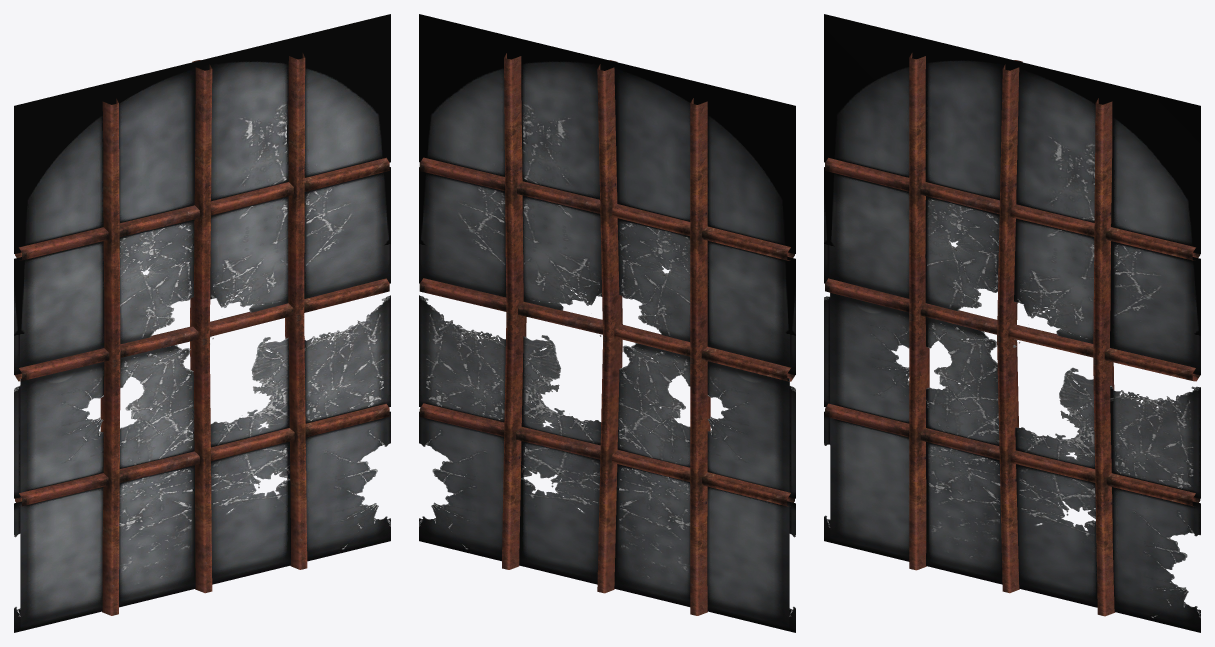
The model's file is mansionbase_large_window_breakable.dae.
3 views of the same model, side by side, from view 1: azimuth 30°, elevation 25°; view 2: azimuth 150°, elevation 25°; view 3: azimuth 330°, elevation 25° (orthographic).
Visible parts, largest first — view 1: window_breakable_glass, window_breakable_wood; view 2: window_breakable_glass, window_breakable_wood; view 3: window_breakable_glass, window_breakable_wood.
Boxes of the visible parts, x1,y1,x2,y2 form: window_breakable_glass: [14, 14, 390, 632]; window_breakable_wood: [15, 53, 389, 615]; window_breakable_glass: [419, 14, 795, 632]; window_breakable_wood: [419, 53, 794, 615]; window_breakable_glass: [824, 14, 1200, 632]; window_breakable_wood: [825, 53, 1200, 616].
Bounding box in the file's own units: 2.18 × 2.93 × 0.1434.
